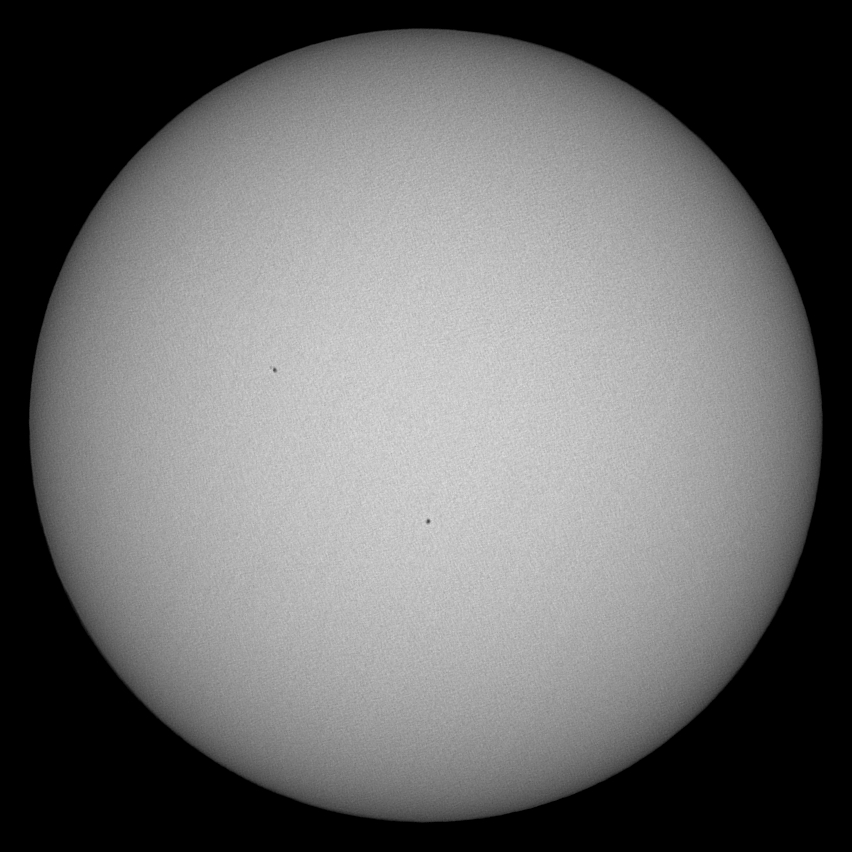sunspot: (265, 359, 281, 375), (421, 513, 436, 527)
